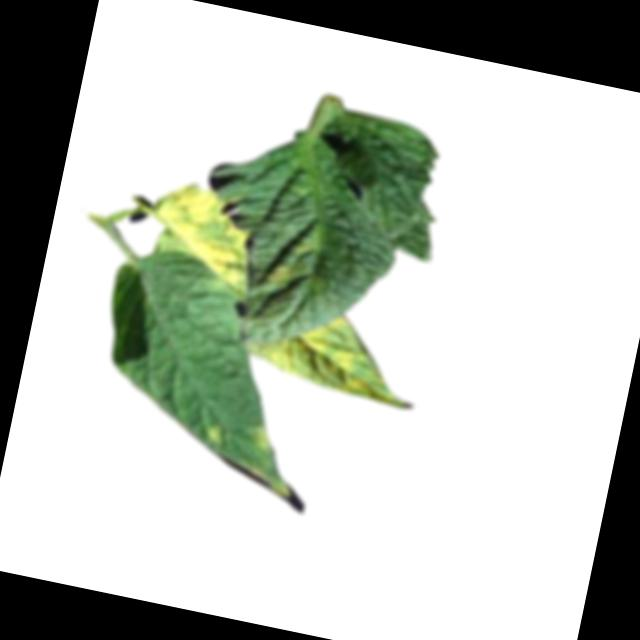Leaf_Mold: (248, 299, 428, 410), (141, 176, 259, 294), (262, 255, 302, 288), (198, 418, 230, 446), (247, 421, 275, 453)
